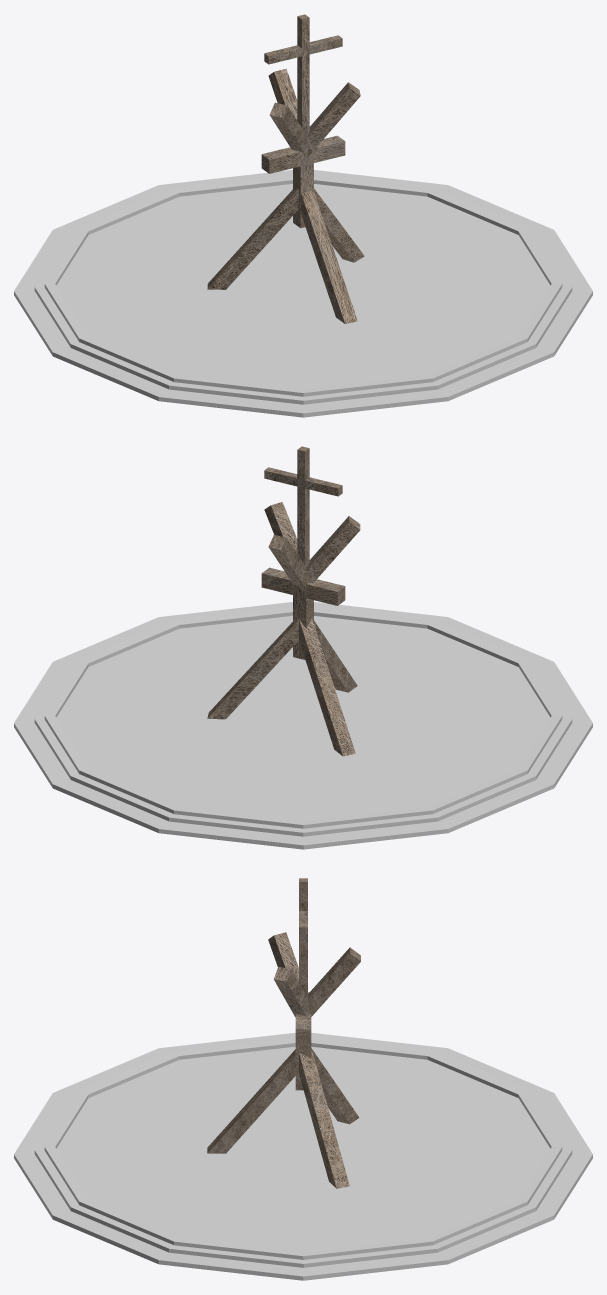
File: RitualArea.fbx
3 renders of one model, top to bottom at view 1: azimuth 30°, elevation 25°; view 2: azimuth 150°, elevation 25°; view 3: azimuth 270°, elevation 25°, orthographic.
Visible parts, largest first — view 1: Circle.012, Cube.045; view 2: Circle.012, Cube.045; view 3: Circle.012, Cube.045.
Boxes of the visible parts, bbox=[...] form: Circle.012: bbox=[14, 170, 592, 417]; Cube.045: bbox=[207, 14, 364, 324]; Circle.012: bbox=[14, 602, 592, 849]; Cube.045: bbox=[207, 446, 360, 756]; Circle.012: bbox=[14, 1032, 592, 1280]; Cube.045: bbox=[207, 878, 360, 1188].
Bounding box in the file's own units: 1740 × 932 × 1740.
2 materials, 1 textured.
